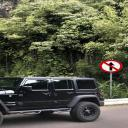NoSeguir: (97, 58, 125, 74)
